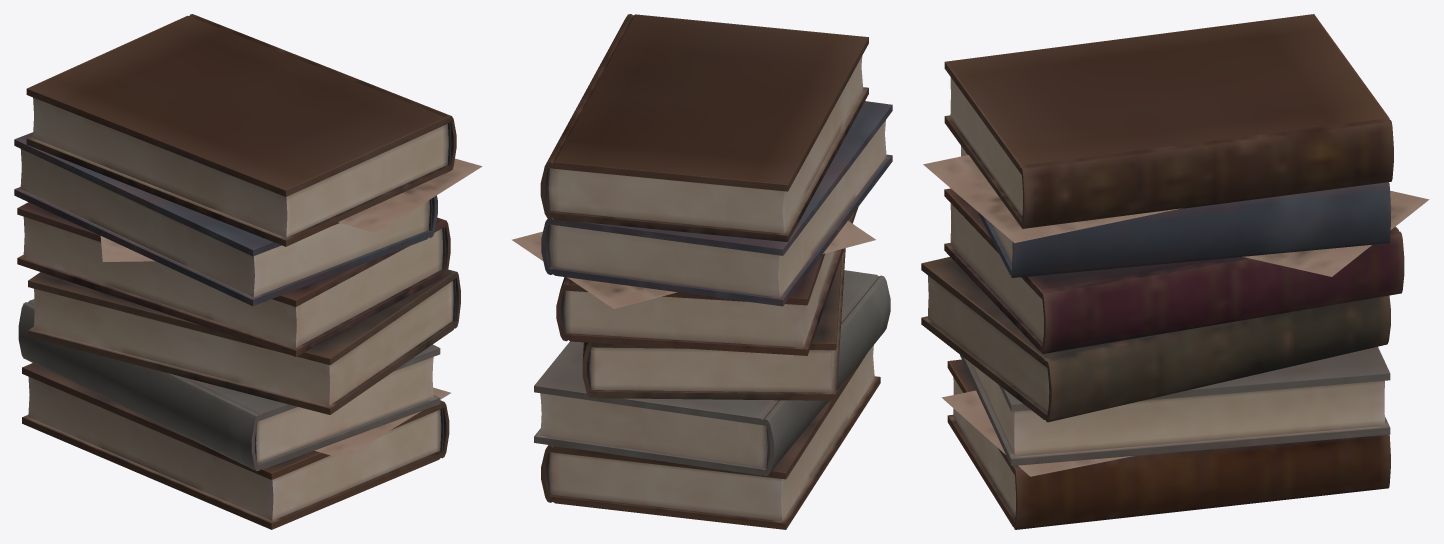
Rendered from book-pile-floor-small.glb.
The picture shows the model from 3 angles, left to right: view 1: azimuth 30°, elevation 25°; view 2: azimuth 150°, elevation 25°; view 3: azimuth 270°, elevation 25°; orthographic projection. The views are drawn at different scales.
Visible parts, largest first — view 1: book-pile-floor-small; view 2: book-pile-floor-small; view 3: book-pile-floor-small.
Part boxes in pixels (bbox=[...]): book-pile-floor-small: bbox=[14, 14, 482, 529]; book-pile-floor-small: bbox=[512, 14, 892, 529]; book-pile-floor-small: bbox=[921, 14, 1429, 529].
Size of the model in its own units: 0.2615 by 0.2463 by 0.3089.
1 material, 1 textured.
